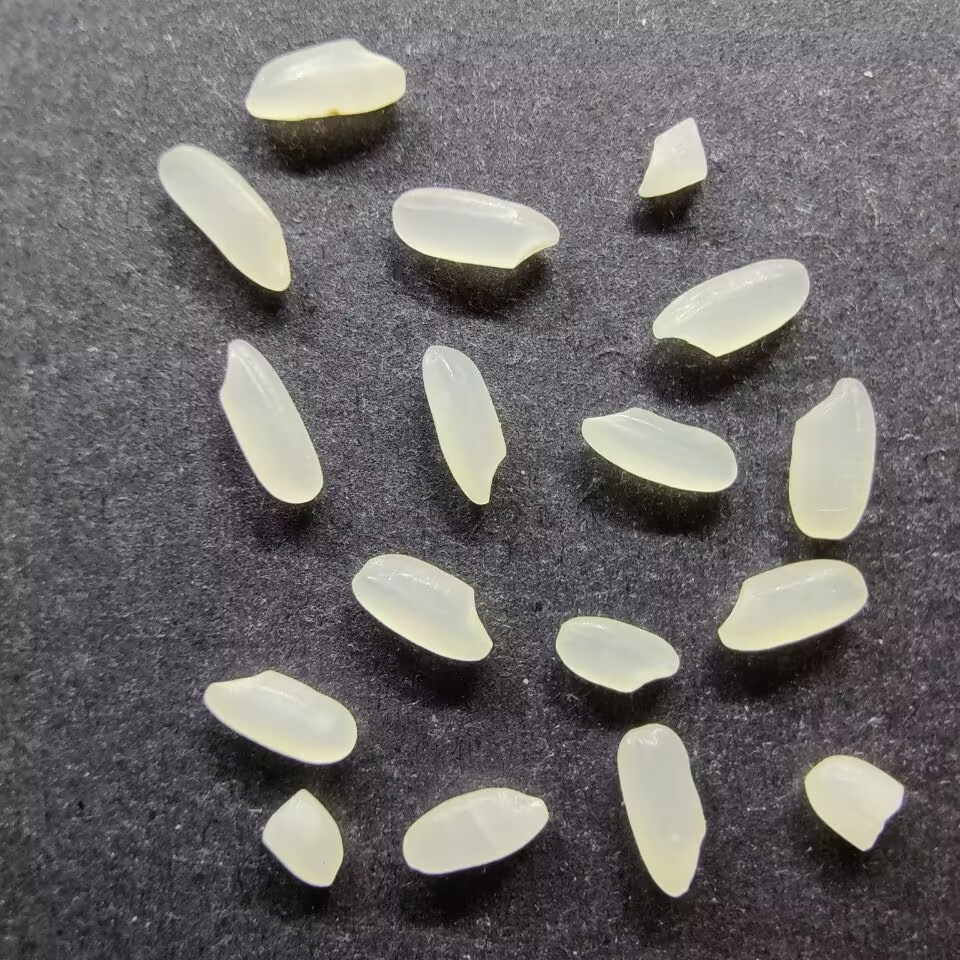broken: (802, 753, 905, 851), (259, 787, 345, 889), (635, 115, 709, 200)
rice: (155, 143, 292, 294), (216, 337, 325, 505), (650, 256, 812, 359), (614, 721, 707, 898), (349, 551, 493, 664), (201, 668, 358, 765), (787, 374, 877, 541), (389, 186, 561, 270), (419, 343, 508, 505), (715, 558, 868, 652), (243, 36, 407, 123), (579, 405, 738, 493), (400, 785, 549, 875), (554, 614, 682, 694)
